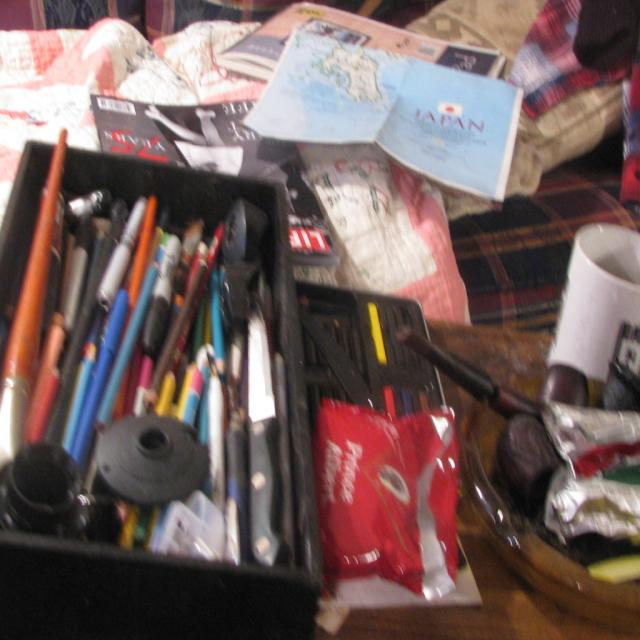pen: (27, 193, 232, 539)
